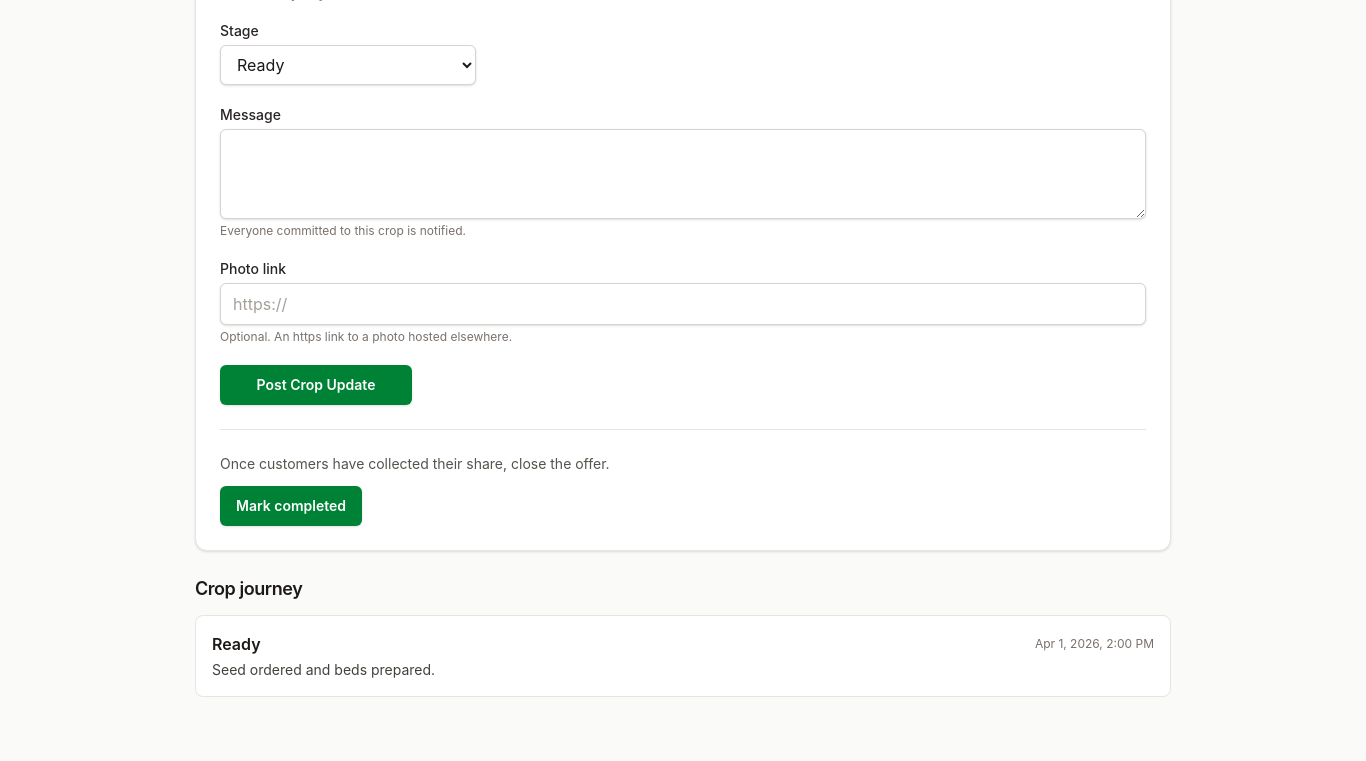
Test: farmer posting crop updates › marks a ready offer completed and then stops accepting updates
(page scrolled)
Step 1. Click the button "Mark completed" → click(291, 506), box [220, 486, 362, 526]
(page scrolled)
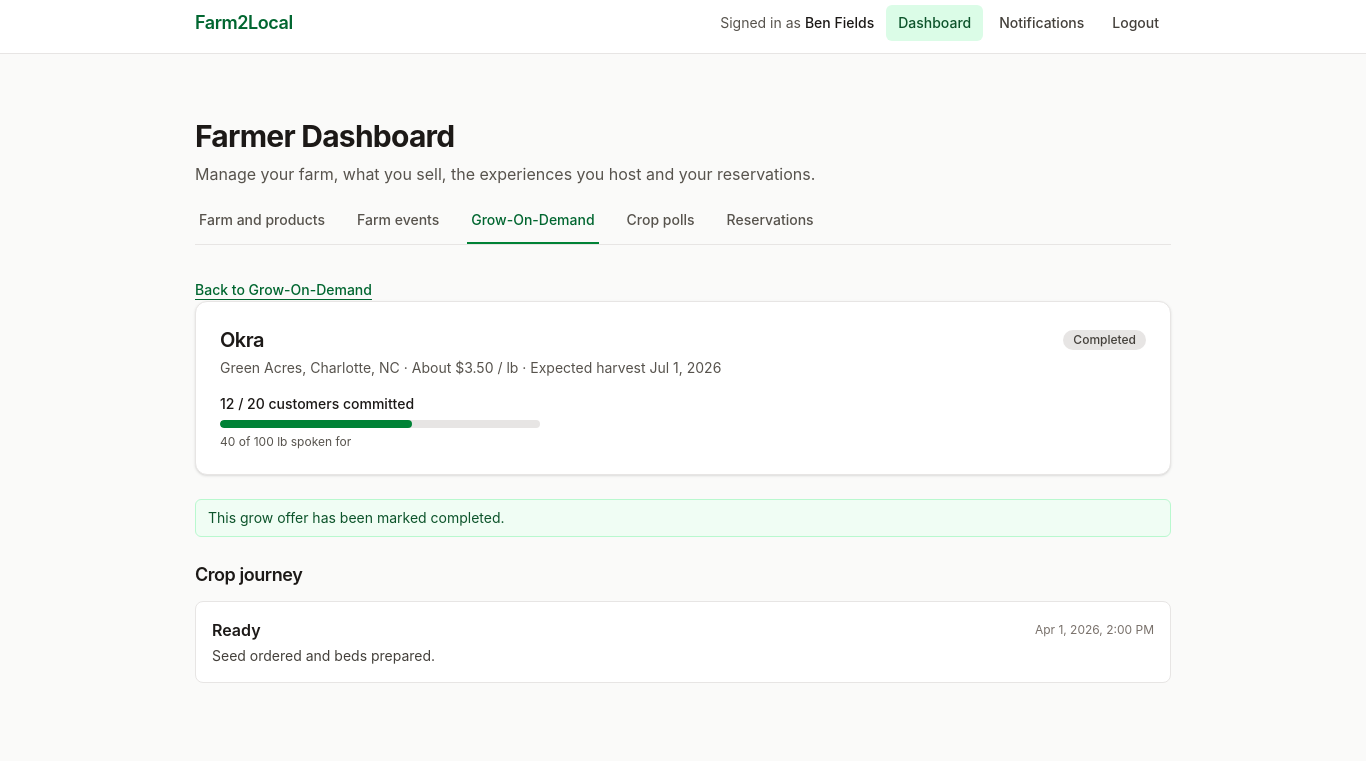
Now the text "This grow offer has been marked completed." is shown, box [195, 499, 1171, 537]
Now the text "Completed" is shown, box [1063, 330, 1146, 350]
